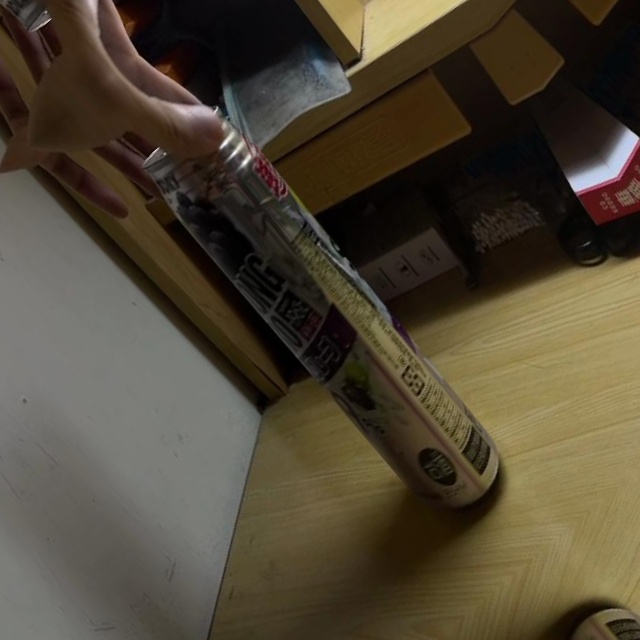Liquor: (129, 95, 524, 537)
